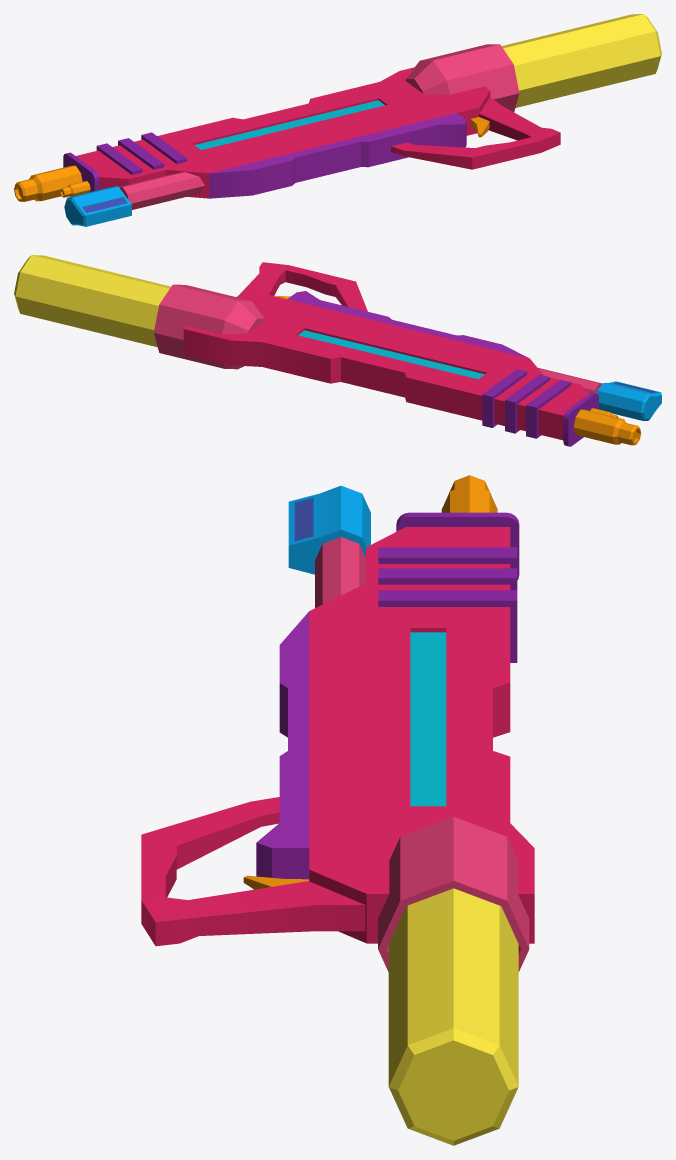
The model's file is Water_Gun.fbx.
The picture shows the model from 3 angles, top to bottom: view 1: azimuth 30°, elevation 25°; view 2: azimuth 150°, elevation 25°; view 3: azimuth 270°, elevation 25°; orthographic projection. The views are drawn at different scales.
Parts seen in each view (by area): view 1: Water_Gun; view 2: Water_Gun; view 3: Water_Gun.
Boxes of the visible parts, box(x1,y1,x2,y2) form: Water_Gun: box(14, 14, 661, 226); Water_Gun: box(14, 255, 661, 446); Water_Gun: box(141, 475, 534, 1145).
Bounding box in the file's own units: 69.58 × 7.44 × 19.32.
1 material, 1 textured.
